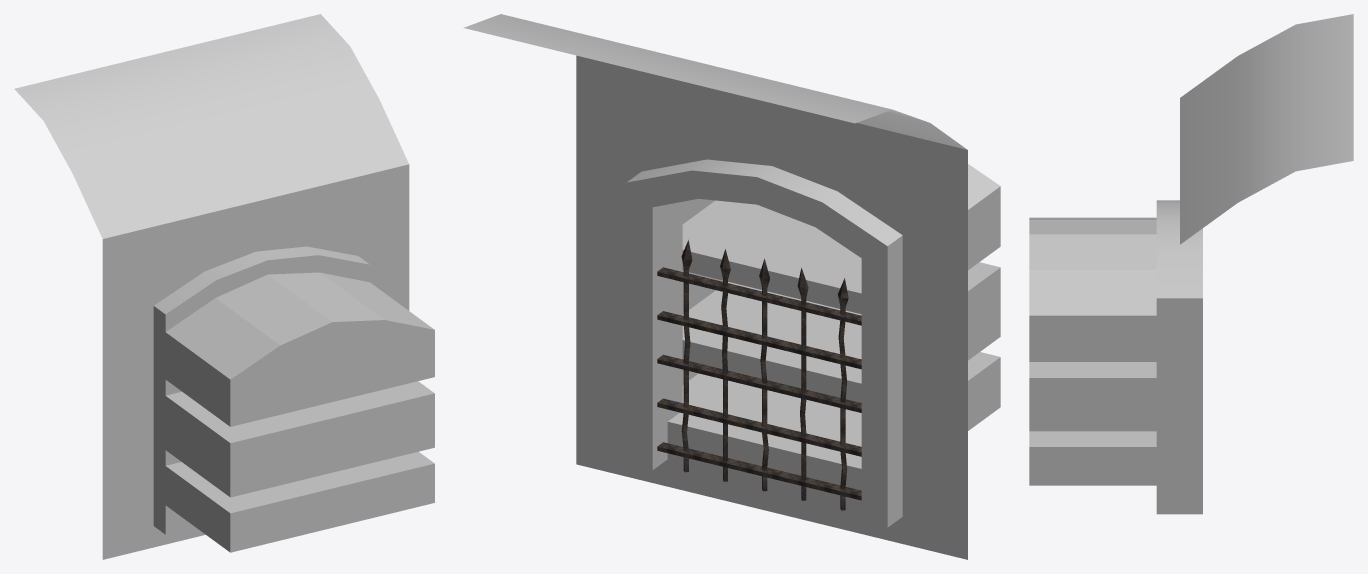
File: WallCrypt.FBX
3 renders of one model, left to right at view 1: azimuth 30°, elevation 25°; view 2: azimuth 150°, elevation 25°; view 3: azimuth 270°, elevation 25°, orthographic. The views are drawn at different scales.
Parts seen in each view (by area): view 1: WallCrypt; view 2: WallCrypt; view 3: WallCrypt.
Boxes of the visible parts, x1,y1,x2,y2 form: WallCrypt: [14, 14, 434, 559]; WallCrypt: [463, 14, 1000, 559]; WallCrypt: [1029, 14, 1353, 514].
Bounding box in the file's own units: 750 × 950 × 700.
